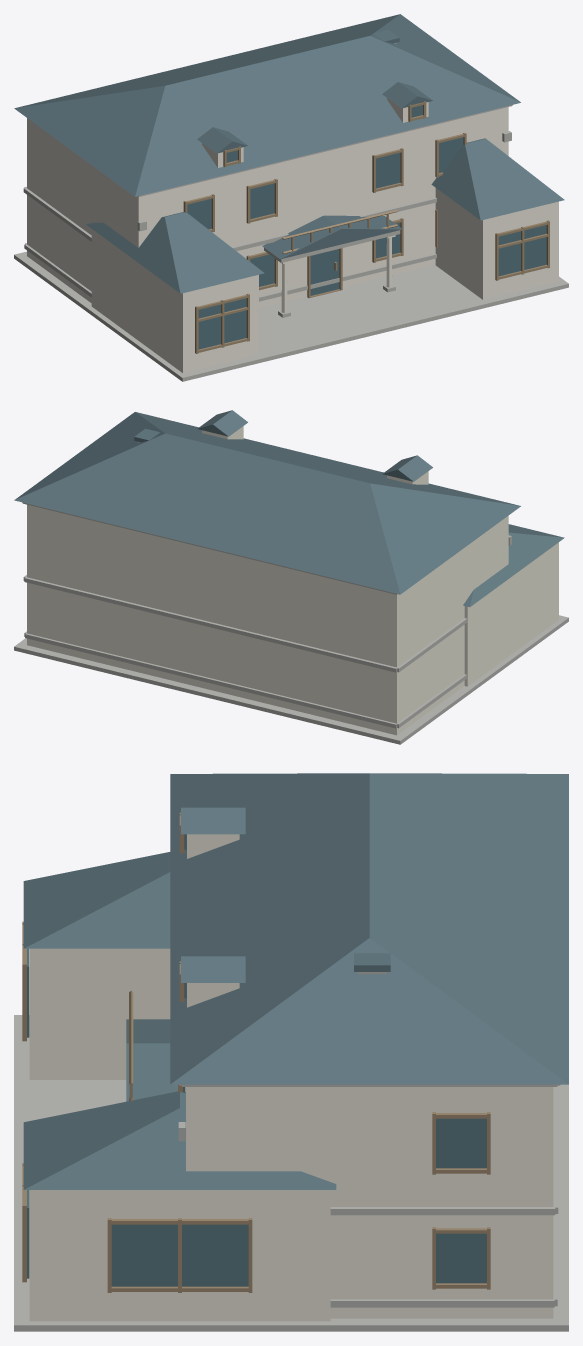
The model's file is house_large_02.glb.
3 renders of one model, top to bottom at view 1: azimuth 30°, elevation 25°; view 2: azimuth 150°, elevation 25°; view 3: azimuth 270°, elevation 25°, orthographic. The views are drawn at different scales.
Parts seen in each view (by area): view 1: House_large_02; view 2: House_large_02; view 3: House_large_02.
Part boxes in pixels (x1,y1,x2,y2): House_large_02: (14,14,568,381); House_large_02: (14,410,568,744); House_large_02: (14,773,568,1331).
Size of the model in its own units: 18.8 by 9.06 by 14.2.
